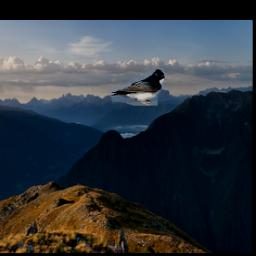Swallow: (111, 69, 166, 107)
